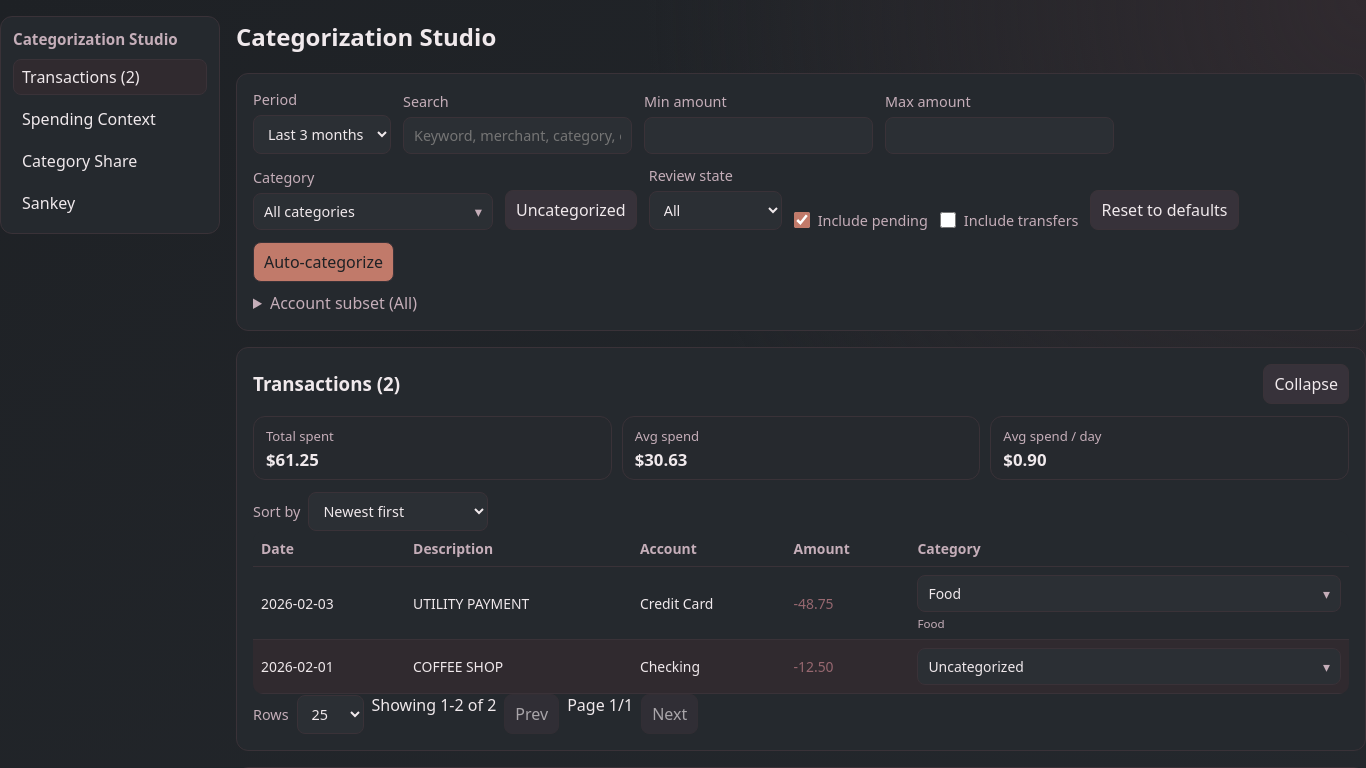
Test: CategorizePage › auto-categorize button shows loading state and opens review modal
Later steps or results of the test are not shown.
Expected: the text "COFFEE SHOP" is shown, top-left (405, 640), bottom-right (632, 694)
Click the button "Auto-categorize": (324, 262) top-left (253, 242), bottom-right (394, 282)
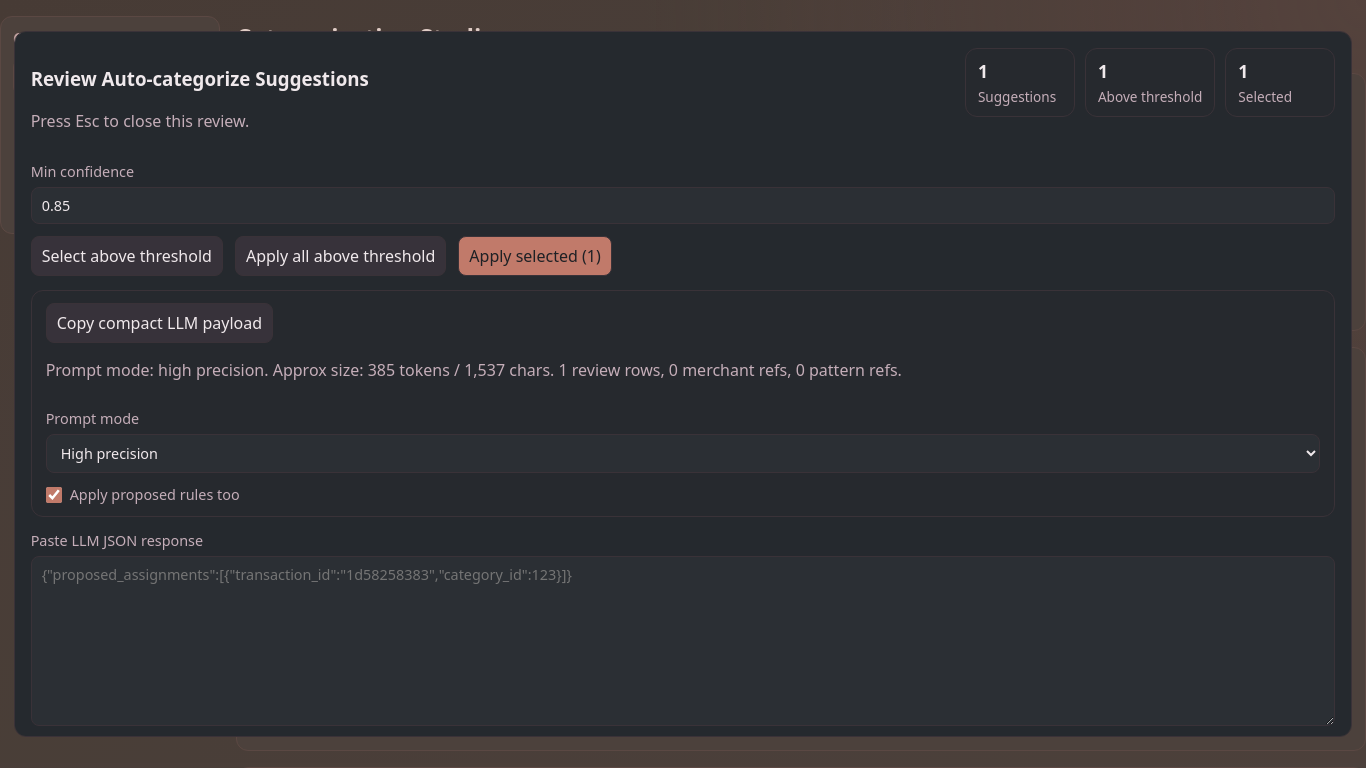
Result: the heading "Review Auto-categorize Suggestions" is shown at top-left (31, 66), bottom-right (369, 91)
